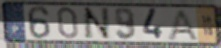0: (55, 6, 80, 41)
4: (142, 7, 167, 43)
6: (26, 5, 52, 41)
9: (113, 6, 138, 42)
A: (167, 9, 201, 42)
N: (82, 7, 113, 41)
